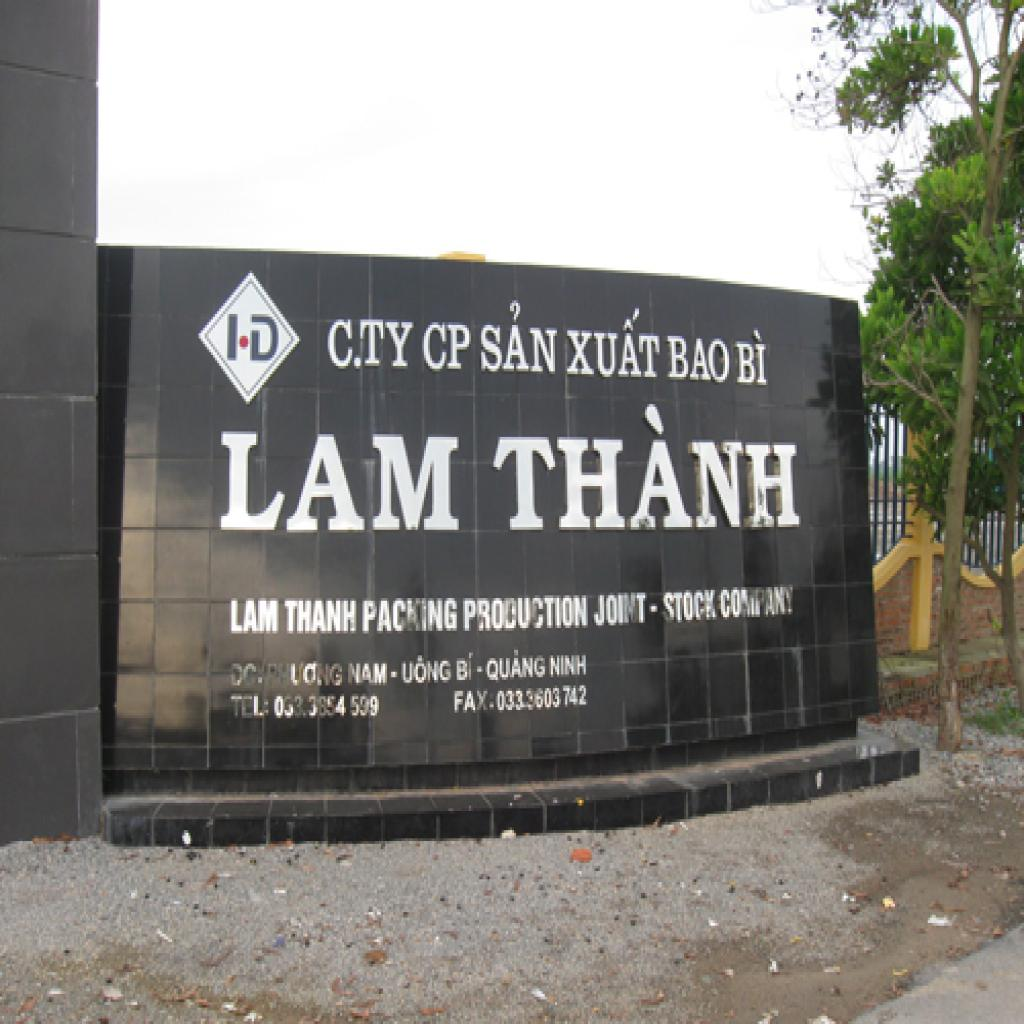text: (489, 402, 803, 532), (219, 429, 463, 535), (565, 303, 664, 382), (477, 298, 561, 376), (463, 593, 592, 636), (326, 317, 418, 374), (360, 598, 461, 636), (666, 333, 735, 388), (272, 694, 383, 724), (225, 311, 283, 366), (719, 584, 799, 622), (420, 320, 475, 374), (282, 598, 360, 636), (659, 587, 721, 628), (485, 648, 549, 686), (733, 325, 770, 390), (266, 661, 346, 691), (592, 592, 649, 630), (230, 596, 280, 636), (402, 655, 452, 688), (452, 688, 498, 716), (230, 694, 272, 724), (346, 661, 391, 688), (549, 653, 590, 680), (230, 661, 266, 691), (455, 650, 477, 685)
